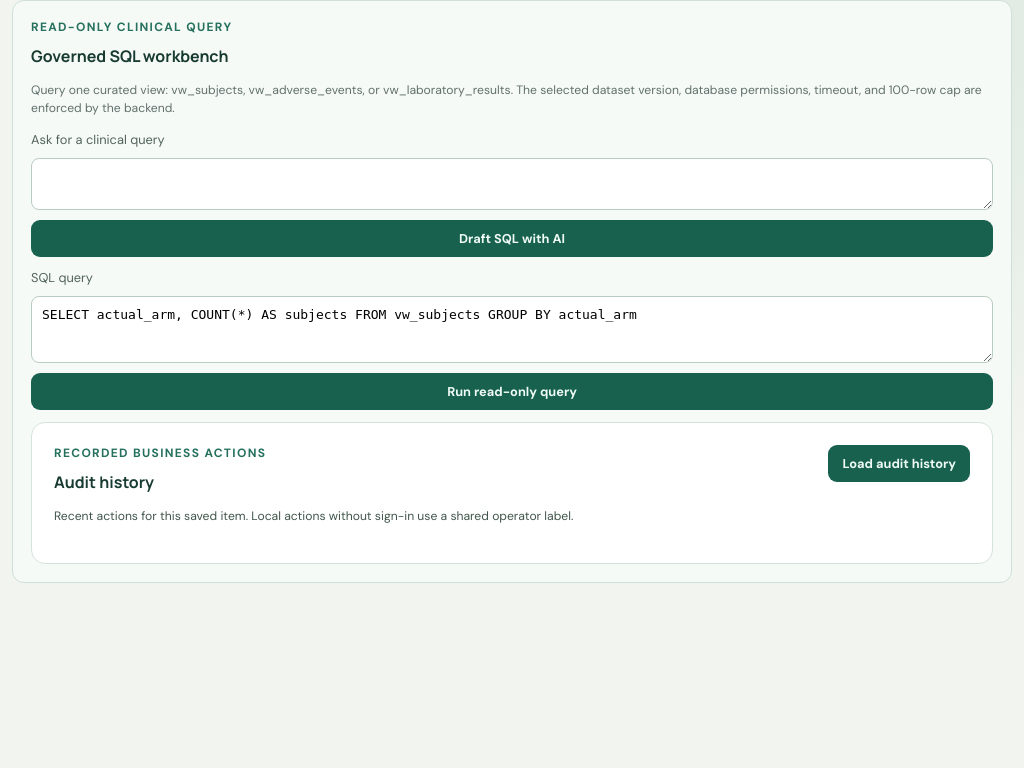
Test: SQLWorkbench › drafts SQL without executing until the user confirms
This screenshot has width=1024, height=768.
Type "How many subjects?" into the text box labelled "Ask for a clinical query" at (512, 184), box [31, 158, 993, 210]
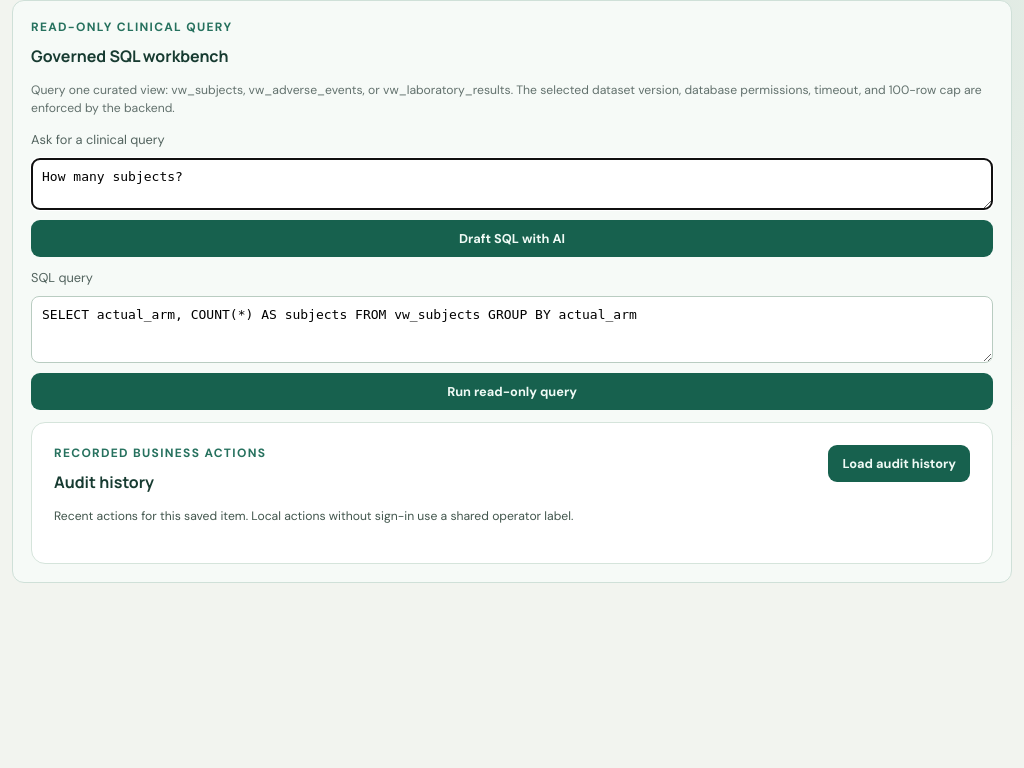
Click the button "Draft SQL with AI" at (512, 239), box [31, 220, 993, 258]
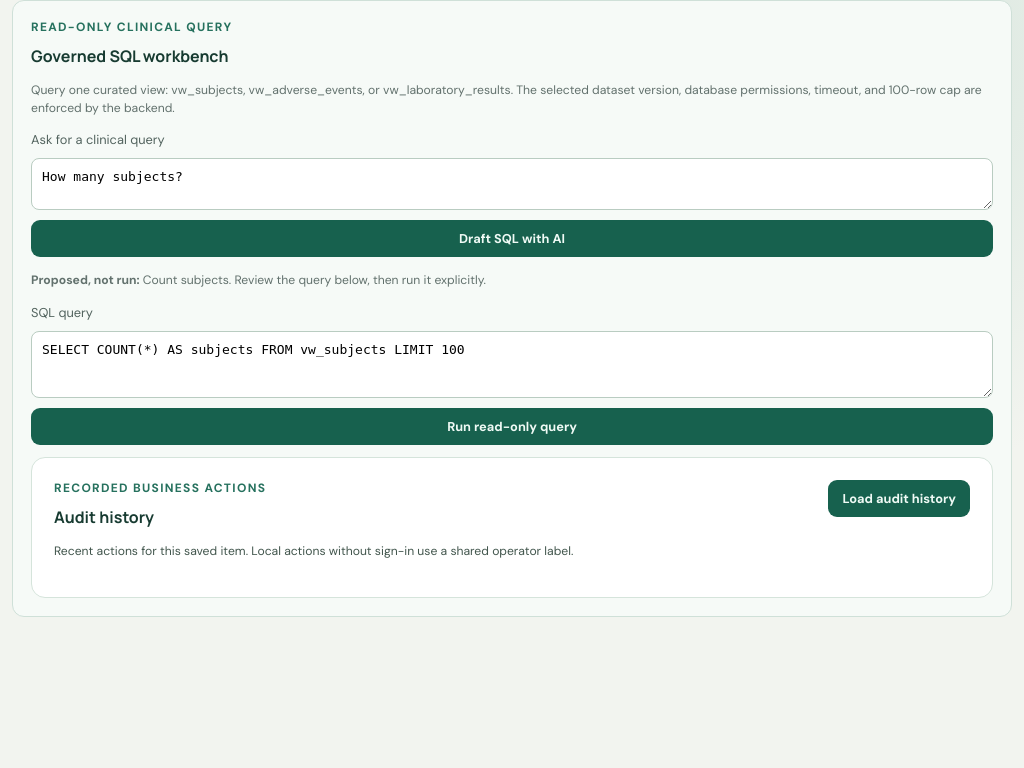
Check: the element named "SQL proposal" shows "Count subjects.", box [143, 272, 231, 288]
Check: the text box labelled "SQL query" holds "SELECT COUNT(*) AS subjects FROM vw_subjects LIMIT 100", box [31, 331, 993, 398]
